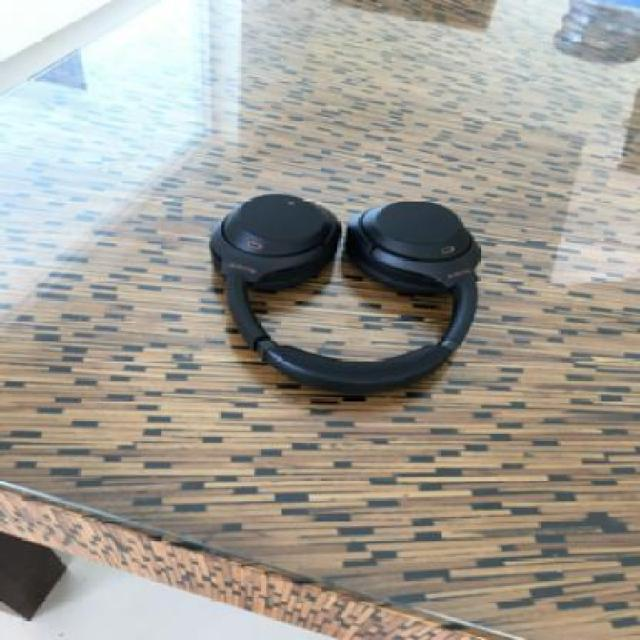earphone: (178, 120, 550, 423)
